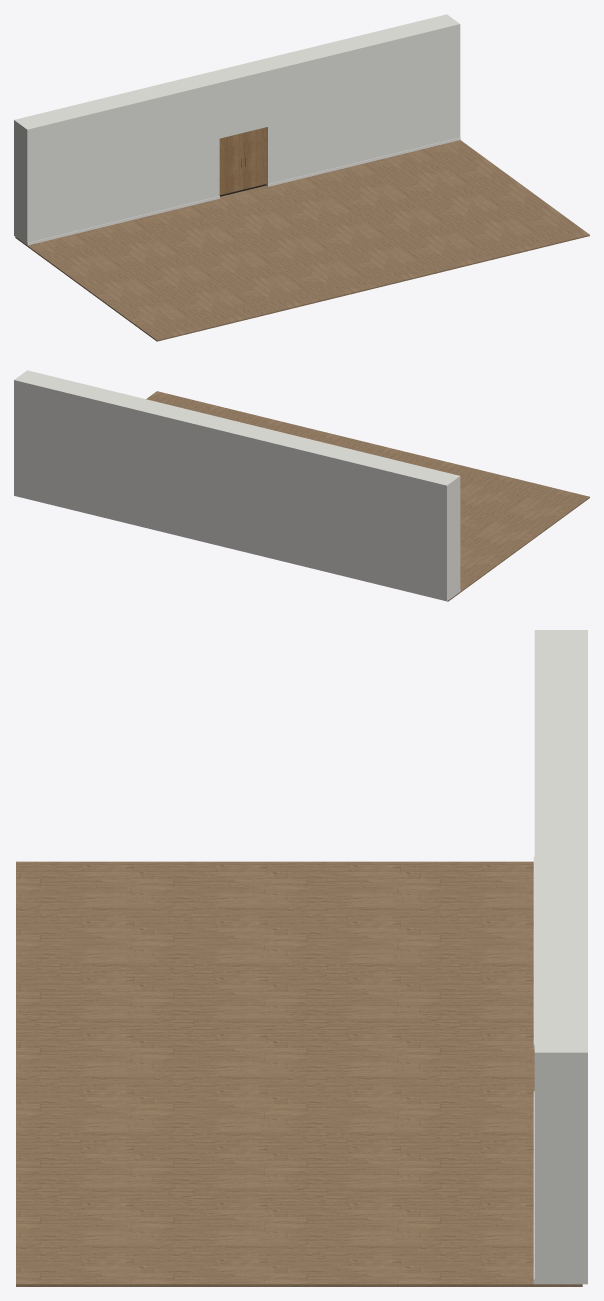
File: hero.glb
3 views of the same model, one above another, from view 1: azimuth 30°, elevation 25°; view 2: azimuth 150°, elevation 25°; view 3: azimuth 270°, elevation 25° (orthographic). The views are drawn at different scales.
Parts seen in each view (by area): view 1: room_floor, wall_l, wall_r, wall_soffit, door0, door1, skirt_l, skirt_r; view 2: wall_l, wall_r, room_floor, wall_soffit, wall_back; view 3: room_floor, wall_r, wall_l, wall_soffit.
Part boxes in pixels (bbox=[...]): room_floor: bbox=[15, 140, 589, 341]; wall_l: bbox=[14, 73, 219, 244]; wall_r: bbox=[255, 14, 460, 186]; wall_soffit: bbox=[207, 61, 267, 138]; door0: bbox=[219, 133, 243, 195]; door1: bbox=[243, 127, 267, 189]; skirt_l: bbox=[27, 196, 219, 245]; skirt_r: bbox=[268, 137, 460, 186]; wall_l: bbox=[254, 429, 460, 601]; wall_r: bbox=[14, 370, 219, 542]; room_floor: bbox=[146, 391, 589, 601]; wall_soffit: bbox=[206, 417, 267, 494]; wall_back: bbox=[206, 483, 254, 554]; room_floor: bbox=[16, 861, 582, 1286]; wall_r: bbox=[534, 865, 587, 1284]; wall_l: bbox=[534, 630, 587, 817]; wall_soffit: bbox=[534, 818, 587, 864].
Bounding box in the file's own units: 18 × 4.65 × 10.3.
8 materials, 3 textured.
